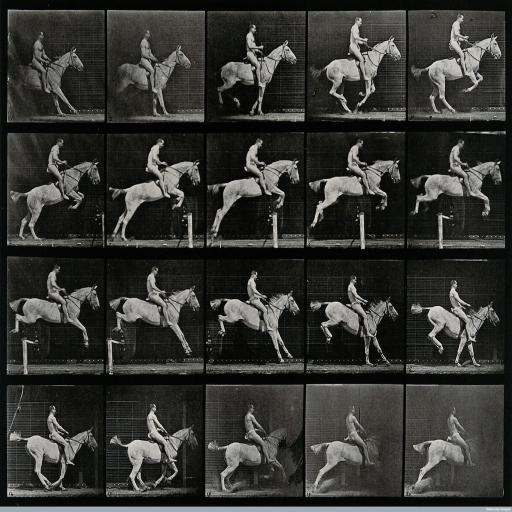horse: (410, 31, 502, 116), (205, 158, 300, 240), (8, 158, 100, 242), (110, 160, 202, 244), (310, 36, 402, 115), (108, 284, 200, 356), (308, 158, 400, 230), (210, 291, 300, 363), (109, 424, 199, 495), (308, 296, 398, 366), (217, 40, 297, 118), (9, 284, 100, 352), (10, 426, 98, 493), (410, 302, 498, 368), (114, 44, 191, 118), (6, 45, 84, 118), (408, 159, 504, 216), (208, 429, 290, 491), (310, 434, 385, 496), (412, 434, 482, 488)
